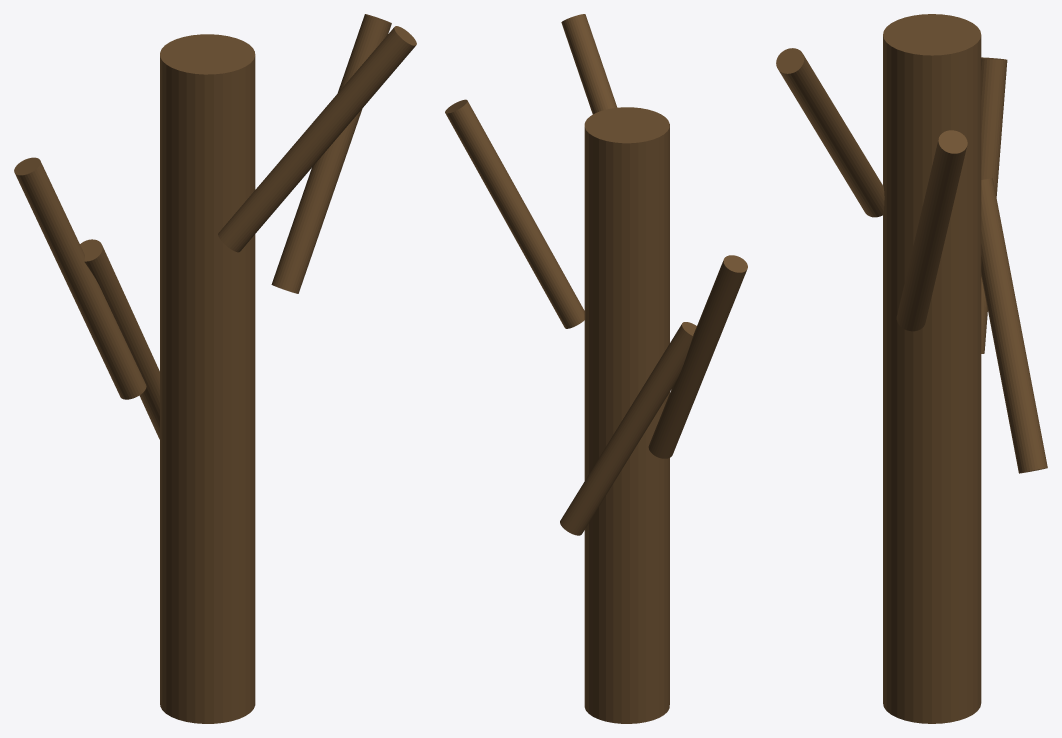
Rendered from dead_tree.glb.
3 renders of one model, left to right at view 1: azimuth 30°, elevation 25°; view 2: azimuth 150°, elevation 25°; view 3: azimuth 270°, elevation 25°, orthographic. The views are drawn at different scales.
Visible parts, largest first — view 1: Branch3; view 2: Branch3; view 3: Branch3.
Part boxes in pixels (x1=…): Branch3: x1=14, y1=14, x2=416, y2=723; Branch3: x1=445, y1=14, x2=747, y2=723; Branch3: x1=776, y1=14, x2=1047, y2=723.
Bounding box in the file's own units: 0.8563 × 1.6 × 0.5528.
